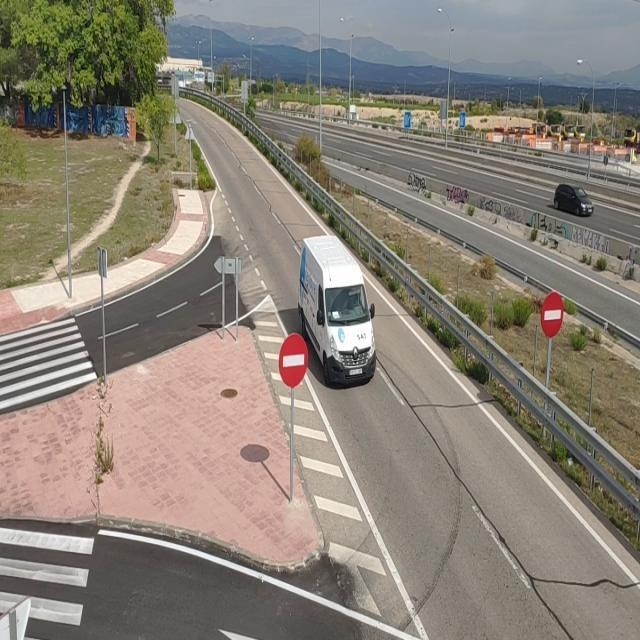Van: (300, 231, 376, 392), (554, 182, 594, 218)
